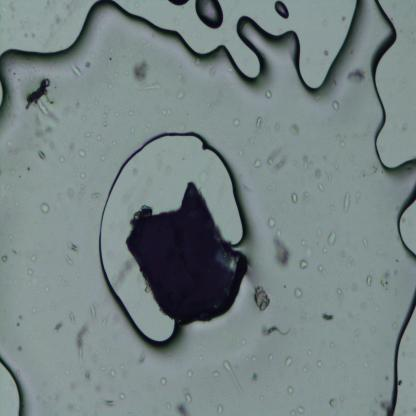Air bubble: (98, 124, 238, 347), (104, 0, 367, 94), (369, 0, 416, 176), (0, 1, 104, 71), (384, 287, 416, 416), (391, 185, 416, 260), (0, 354, 31, 414), (195, 0, 226, 29), (0, 72, 13, 116), (273, 0, 289, 20)
Background material: (24, 77, 54, 116), (273, 228, 292, 268), (222, 360, 243, 394), (254, 284, 271, 311), (76, 324, 88, 362), (345, 69, 368, 87), (34, 116, 52, 139), (260, 326, 292, 337), (267, 153, 286, 169), (99, 363, 116, 378), (175, 402, 189, 416), (48, 111, 61, 125), (326, 230, 336, 248), (378, 397, 390, 412), (101, 397, 116, 409), (381, 268, 389, 290), (292, 286, 304, 300), (320, 311, 335, 322), (72, 65, 84, 78), (283, 355, 294, 369), (344, 190, 350, 215), (267, 215, 276, 230), (297, 257, 308, 269), (184, 388, 192, 404), (302, 155, 310, 171), (67, 241, 78, 252), (137, 351, 145, 366), (40, 202, 50, 214), (290, 124, 300, 136), (253, 157, 262, 170), (69, 142, 76, 158), (66, 187, 76, 198), (251, 372, 260, 384), (64, 254, 73, 266), (90, 303, 96, 321), (361, 237, 368, 252), (370, 164, 378, 177), (300, 310, 309, 321), (54, 321, 63, 332), (16, 313, 23, 327), (98, 150, 106, 162), (92, 192, 102, 201), (101, 112, 107, 127), (317, 265, 326, 275), (68, 312, 76, 323), (315, 168, 323, 179), (353, 330, 360, 342), (336, 288, 343, 300), (333, 100, 340, 112), (216, 403, 223, 415), (264, 90, 272, 100), (160, 376, 168, 386), (329, 398, 337, 408), (38, 150, 46, 160), (291, 193, 298, 204), (84, 371, 91, 382), (256, 117, 262, 129), (303, 190, 311, 199), (118, 392, 127, 400), (366, 274, 372, 286), (297, 405, 304, 415), (2, 253, 8, 264), (360, 301, 366, 312), (164, 402, 172, 410), (92, 98, 100, 106), (238, 149, 245, 158), (287, 385, 294, 394), (187, 369, 194, 378), (316, 359, 322, 369), (318, 183, 324, 193), (79, 148, 85, 158), (233, 118, 240, 126), (328, 341, 336, 348), (289, 408, 296, 416), (212, 371, 220, 378), (85, 60, 92, 68), (246, 356, 255, 362), (268, 353, 274, 362), (327, 171, 332, 181), (75, 99, 80, 109), (11, 249, 18, 256), (107, 83, 114, 90), (330, 204, 336, 212), (31, 254, 37, 262), (67, 403, 73, 411), (240, 338, 246, 346), (306, 350, 312, 358), (198, 354, 204, 362), (7, 139, 13, 147), (58, 156, 66, 162), (300, 240, 306, 247), (302, 366, 308, 373), (85, 132, 92, 138), (393, 268, 398, 276), (363, 362, 368, 370), (258, 396, 266, 401), (28, 268, 33, 276), (341, 140, 345, 149), (32, 306, 36, 315), (80, 172, 86, 178), (343, 376, 349, 382), (96, 135, 102, 141), (26, 166, 32, 172), (18, 346, 23, 353), (322, 245, 327, 252), (398, 379, 402, 387), (120, 364, 125, 370), (112, 140, 117, 146), (45, 286, 49, 293), (66, 370, 70, 377), (114, 112, 119, 117), (76, 273, 80, 278), (128, 411, 132, 416), (7, 184, 10, 190), (83, 115, 86, 121), (80, 184, 84, 188), (11, 170, 15, 174), (115, 73, 118, 78)
Fragment: (125, 182, 247, 327)
